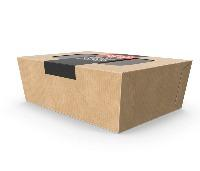undamaged: (15, 48, 192, 134)
